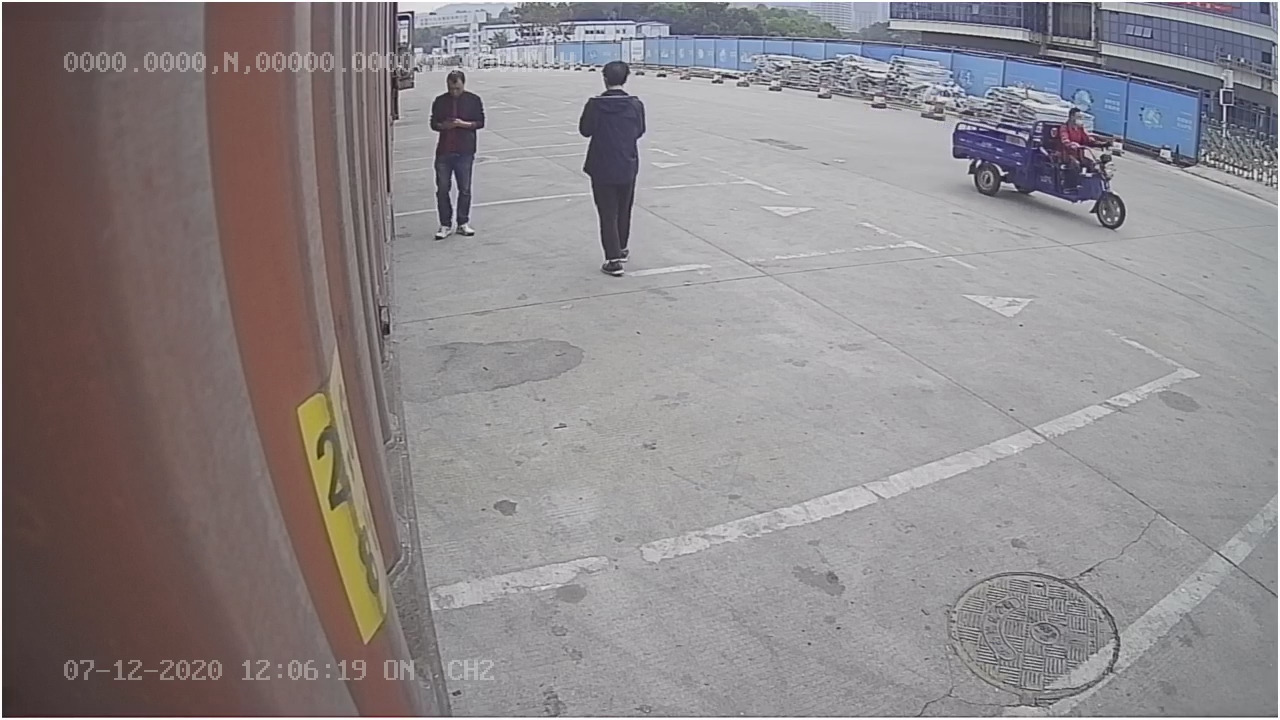person: (580, 59, 655, 281)
